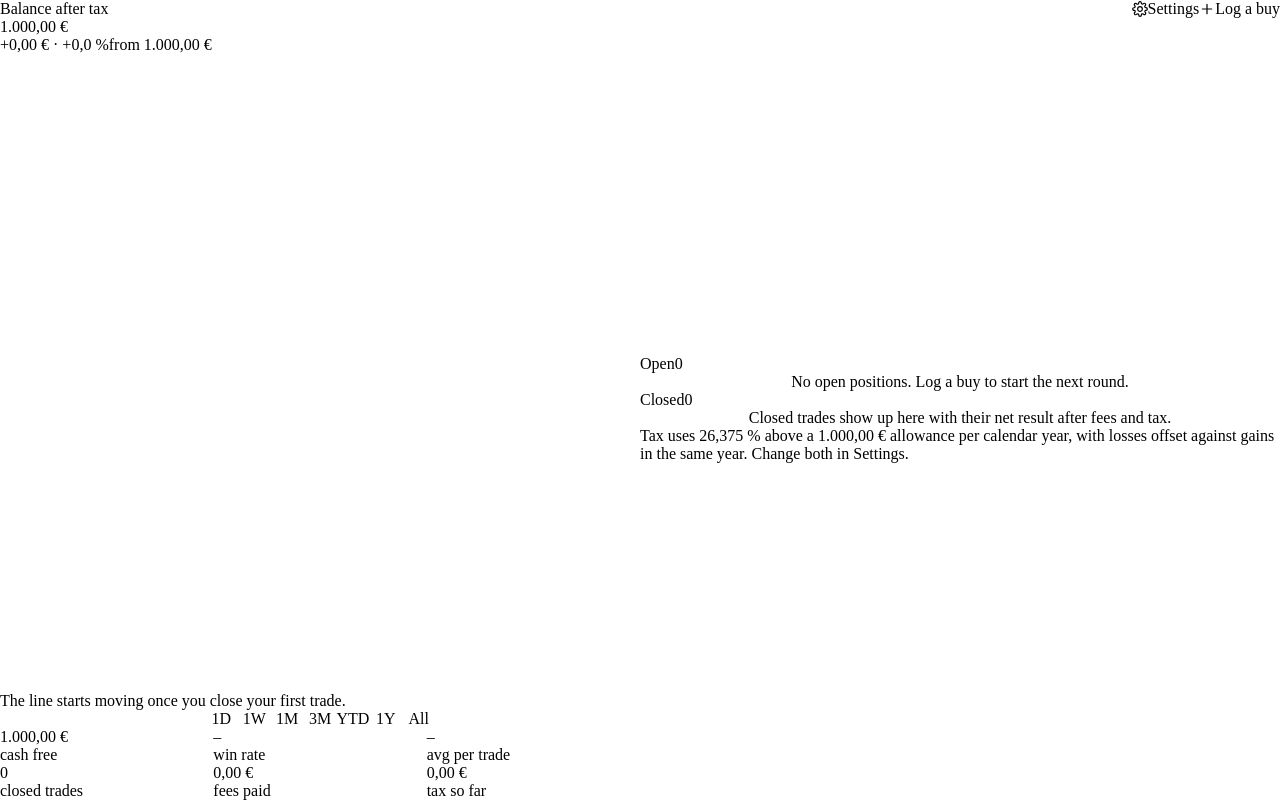
Scenario: App › explains what is missing instead of logging an invalid buy
The width and height of the screenshot is (1280, 800).
Click the button "Log a buy". click: (1240, 9)
box: [1199,0,1279,18]
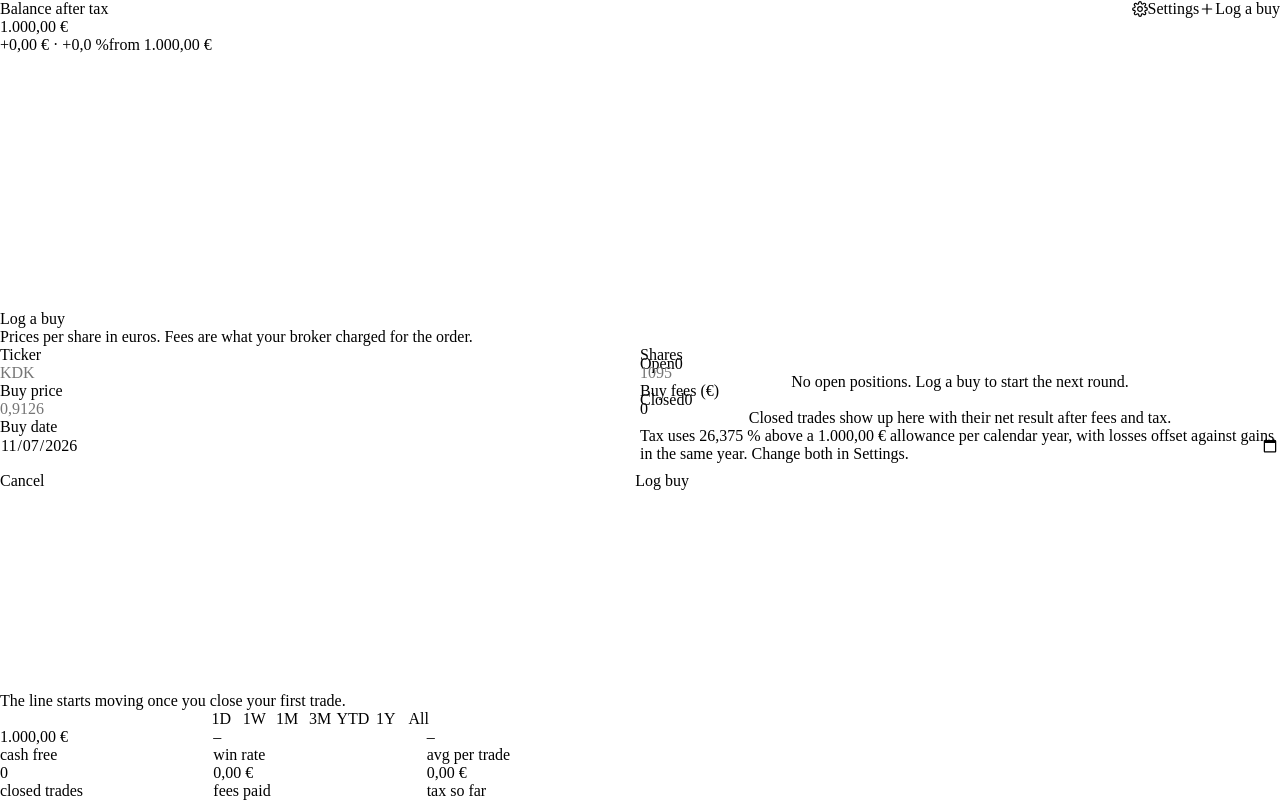
Click the button "Log buy". click: (662, 481)
box: [44,472,1279,490]
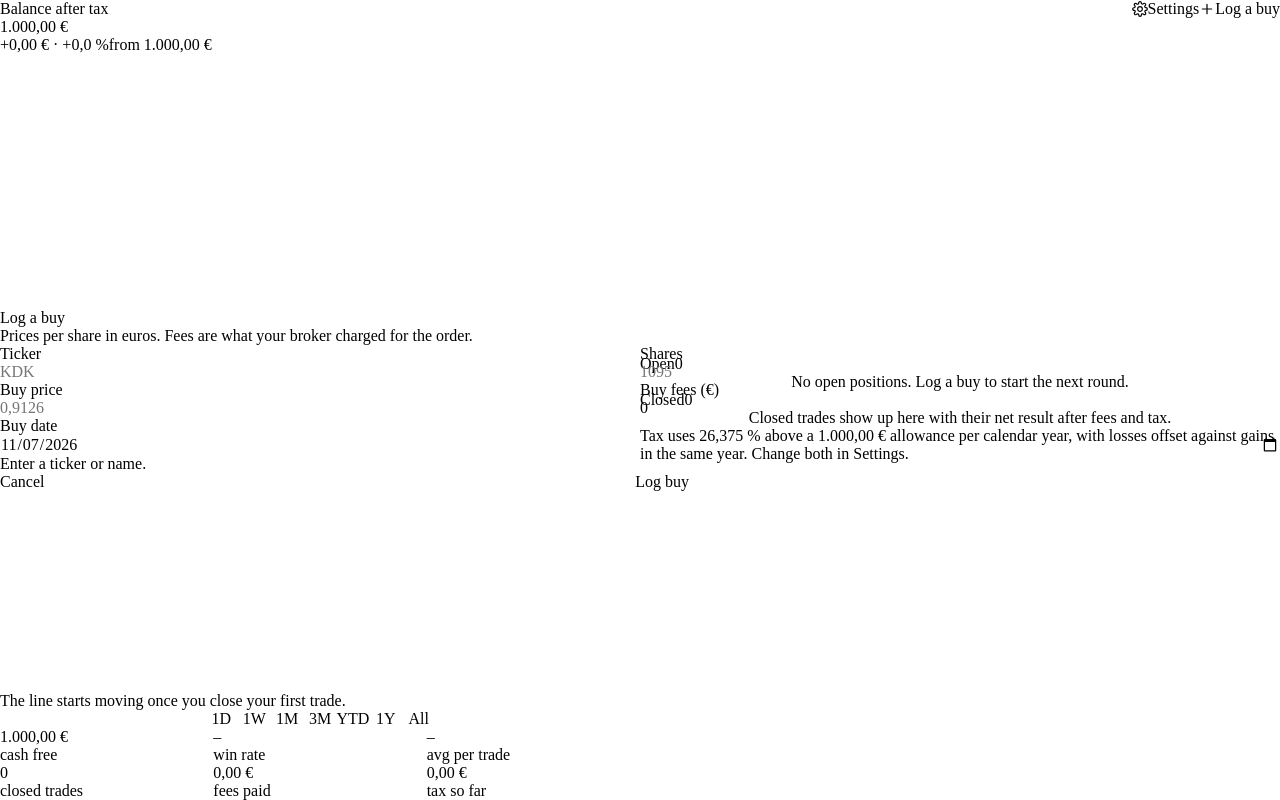
Check: the message reads "Enter a ticker or name.", box [0,455,146,472]
